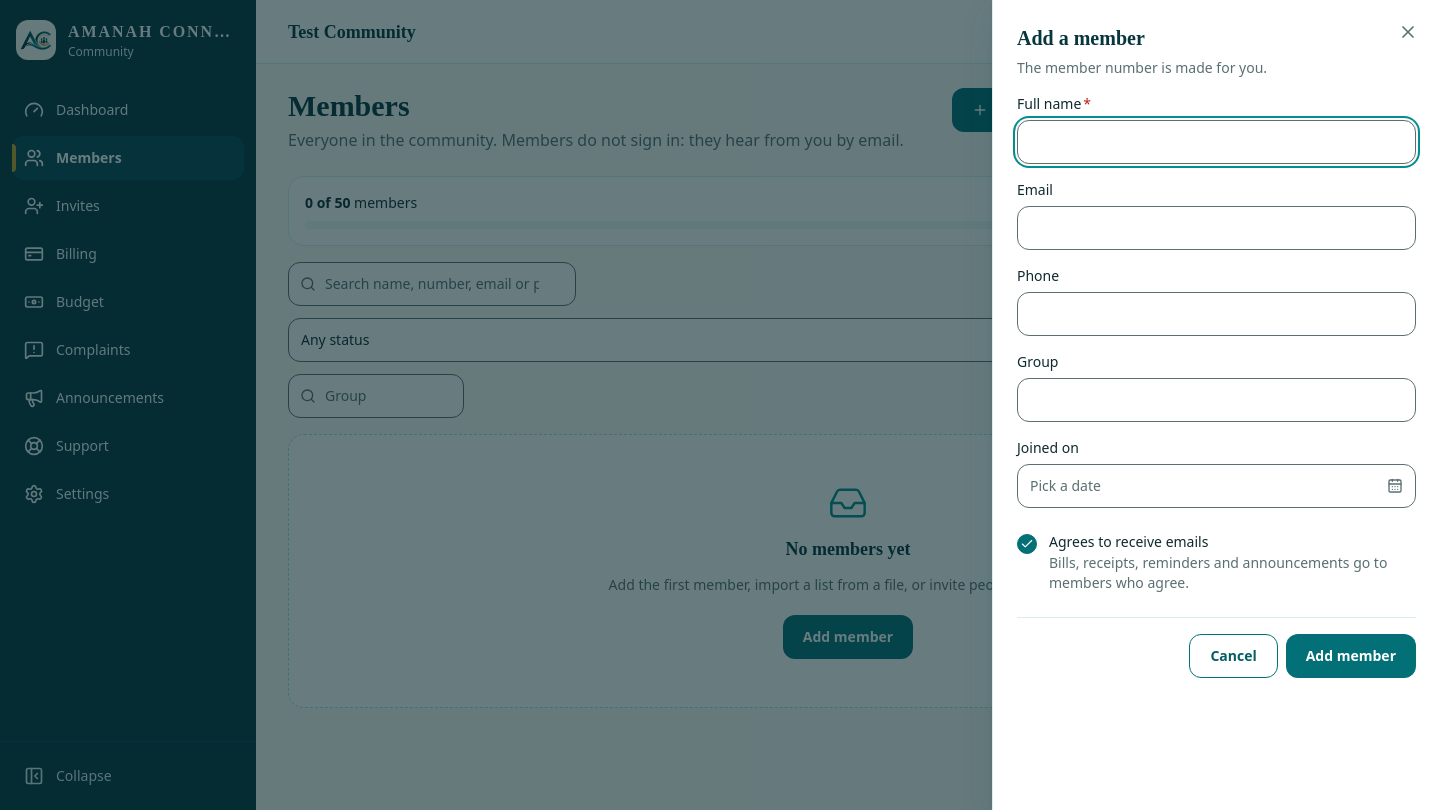
it: Adding and changing members › checks the email and phone before sending
Type "Priya" into the field labelled "Full name*".
click(1216, 142); type("Priya")  # box [1017, 120, 1416, 164]
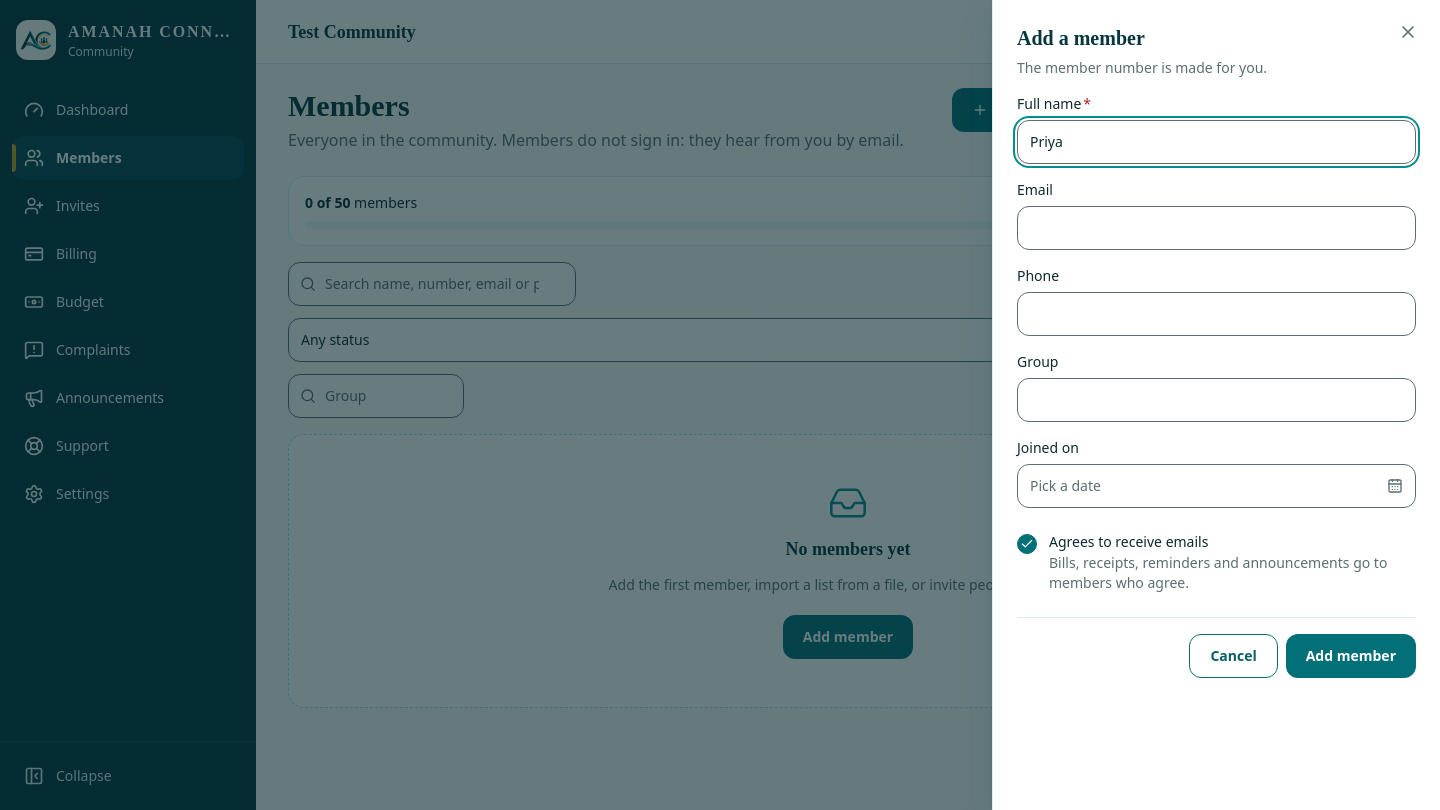
Type "not-an-email" into the field labelled "Email".
click(1216, 228); type("not-an-email")  # box [1017, 206, 1416, 250]
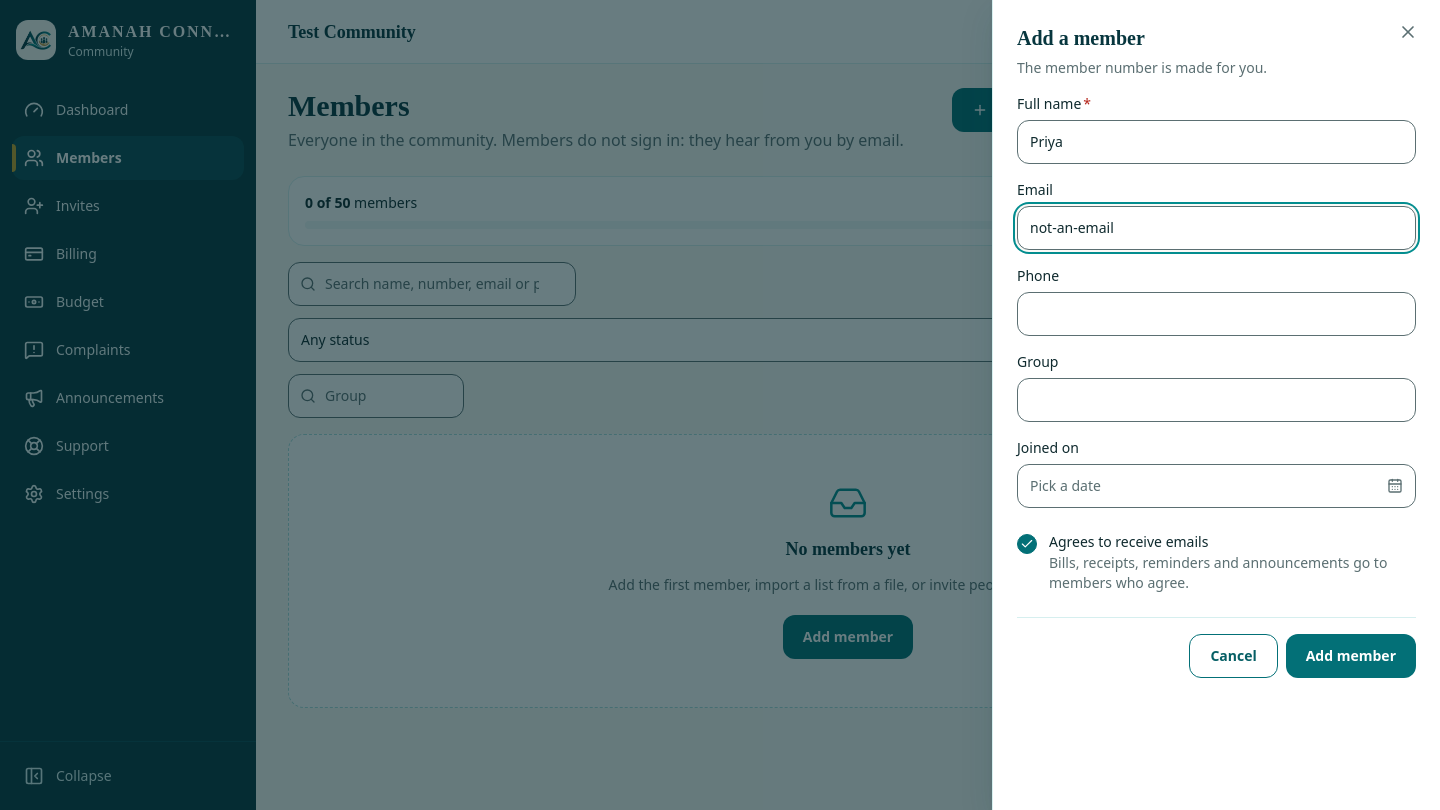
Type "abc" into the field labelled "Phone".
click(1216, 314); type("abc")  # box [1017, 292, 1416, 336]
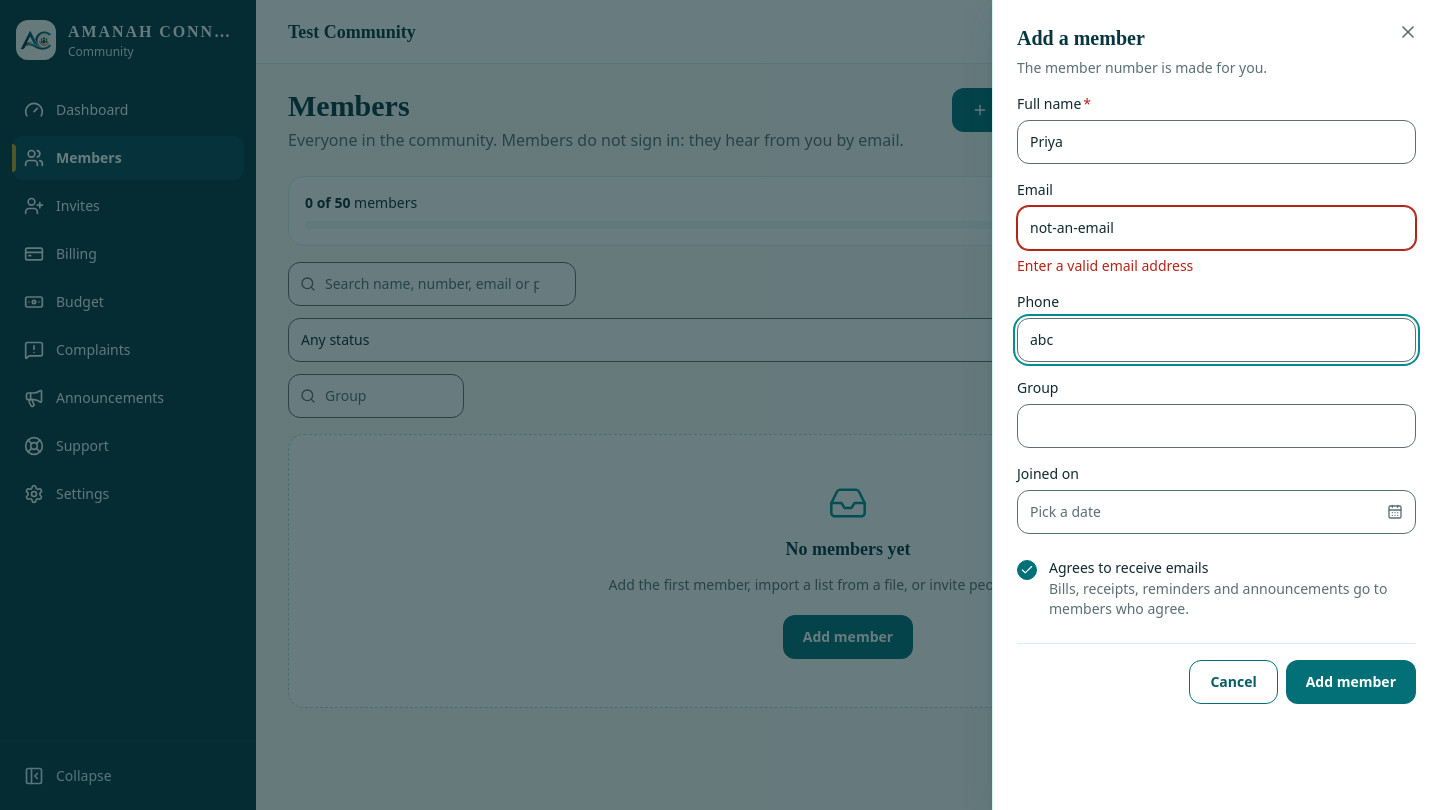
Click the button "Add member".
click(1351, 682)  # box [1286, 660, 1416, 704]
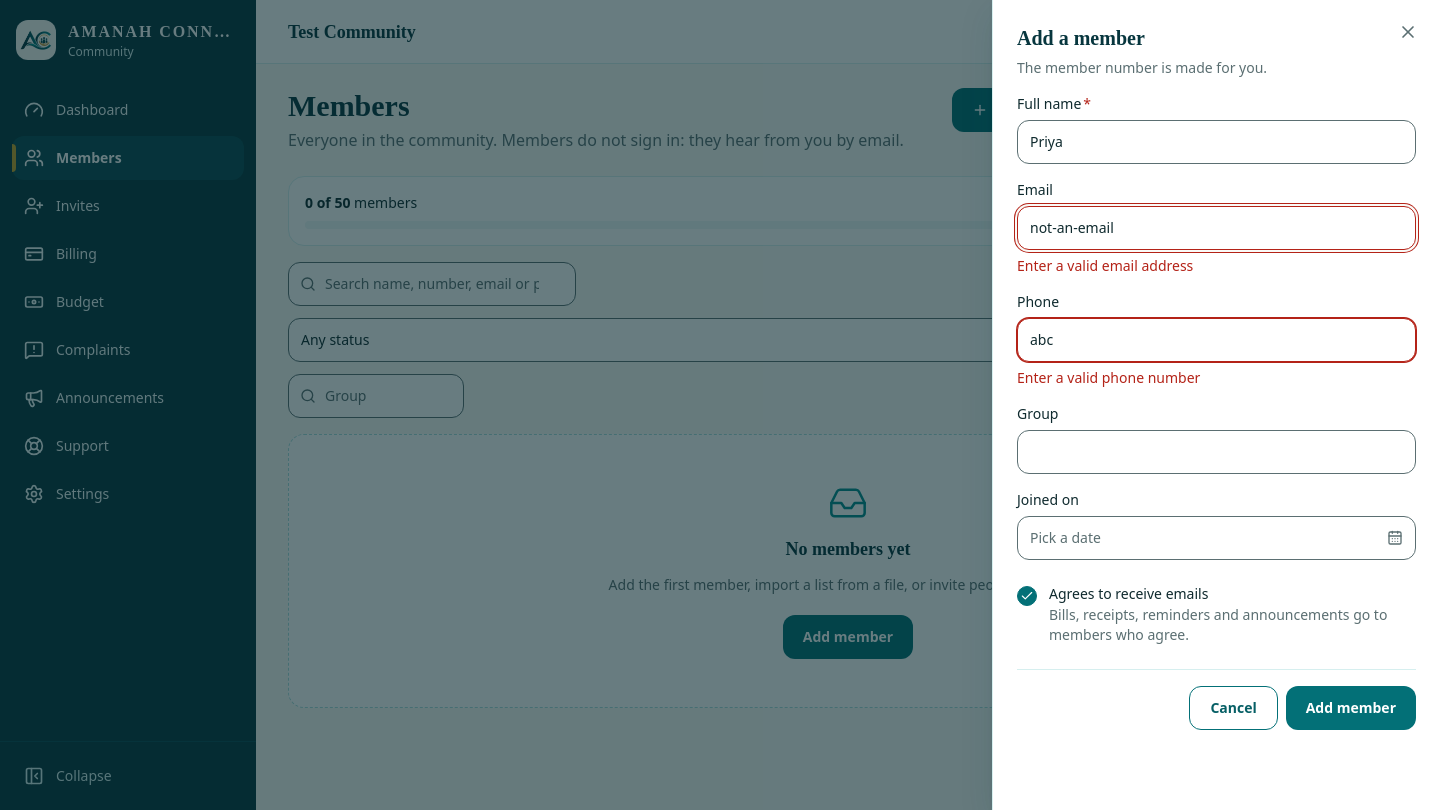
Now the text "Enter a valid email address" is shown, box [1017, 256, 1193, 275]
Now the text "Enter a valid phone number" is shown, box [1017, 368, 1200, 387]
